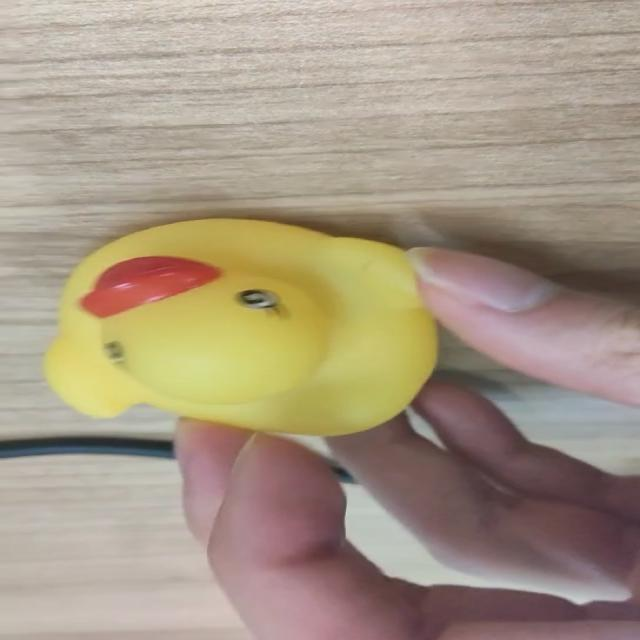rubber-duck: (43, 218, 435, 433)
